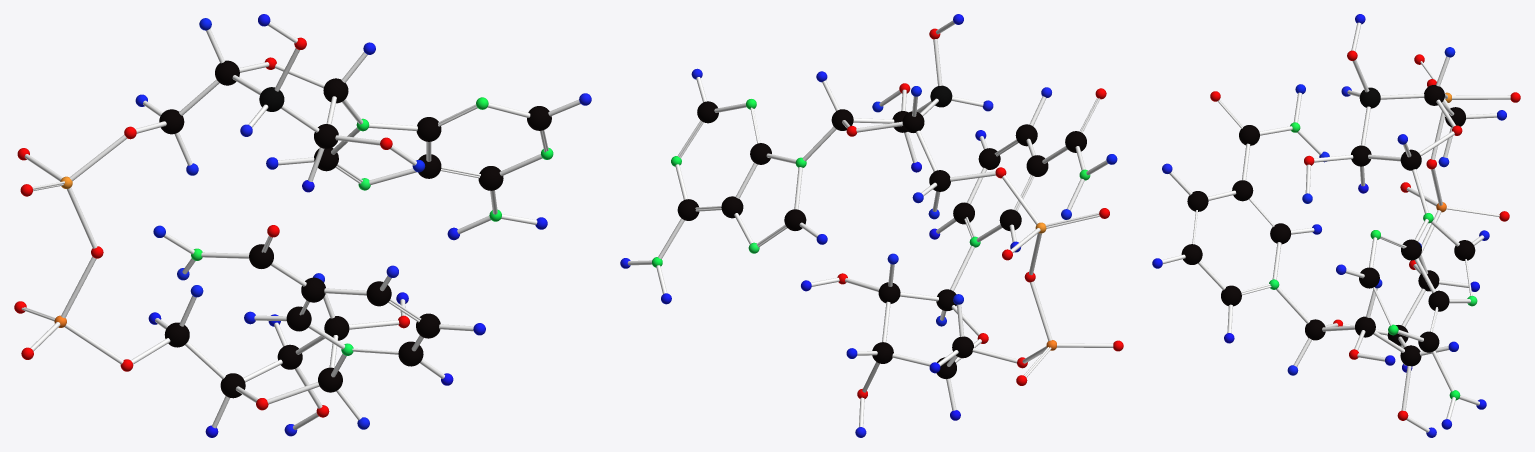
The model's file is nad+edited.fbx.
3 views of the same model, side by side, from view 1: azimuth 30°, elevation 25°; view 2: azimuth 150°, elevation 25°; view 3: azimuth 270°, elevation 25° (orthographic). The views are drawn at different scales.
Visible parts, largest first — view 1: no part large enough to name; view 2: no part large enough to name; view 3: Atom6_Clone__18.
Part boxes in pixels (x1,y1,x2,y2): Atom6_Clone__18: [1187, 191, 1208, 211].
Bounding box in the file's own units: 1263 × 1031 × 872.
